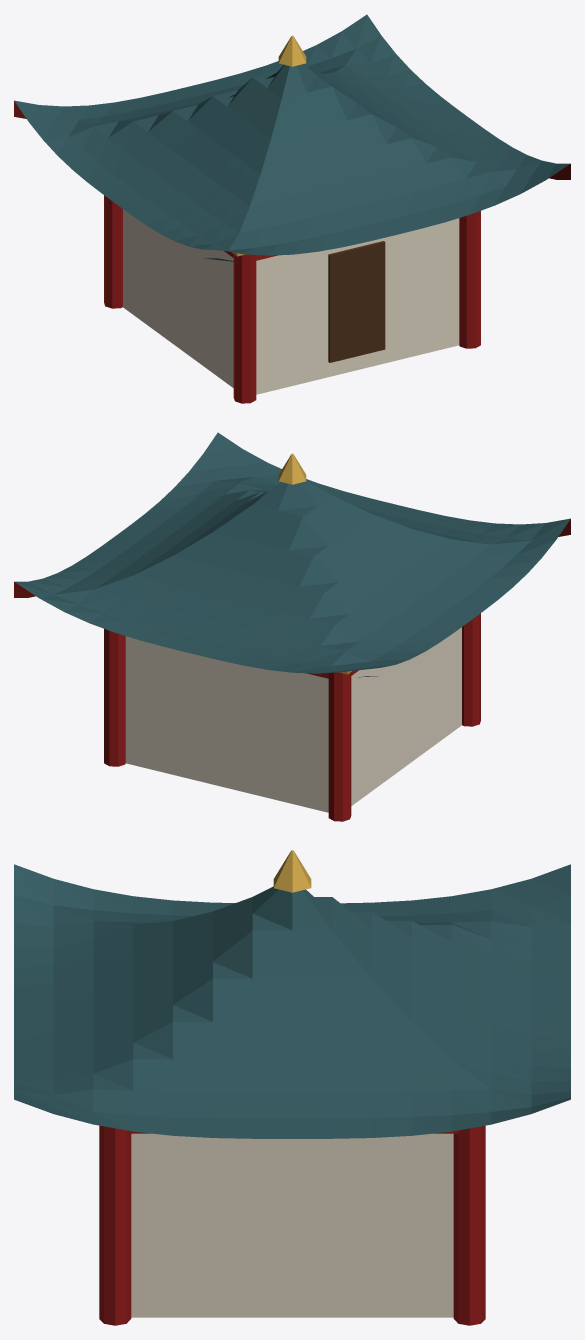
Rendered from pagoda-tier-small.glb.
3 renders of one model, top to bottom at view 1: azimuth 30°, elevation 25°; view 2: azimuth 150°, elevation 25°; view 3: azimuth 270°, elevation 25°, orthographic. The views are drawn at different scales.
Parts seen in each view (by area): view 1: pagoda-tier-small; view 2: pagoda-tier-small; view 3: pagoda-tier-small.
Part boxes in pixels (x1,y1,x2,y2): pagoda-tier-small: (14,14,570,403); pagoda-tier-small: (14,432,570,821); pagoda-tier-small: (14,850,570,1325).
Bounding box in the file's own units: 7.7 × 6 × 7.7.
